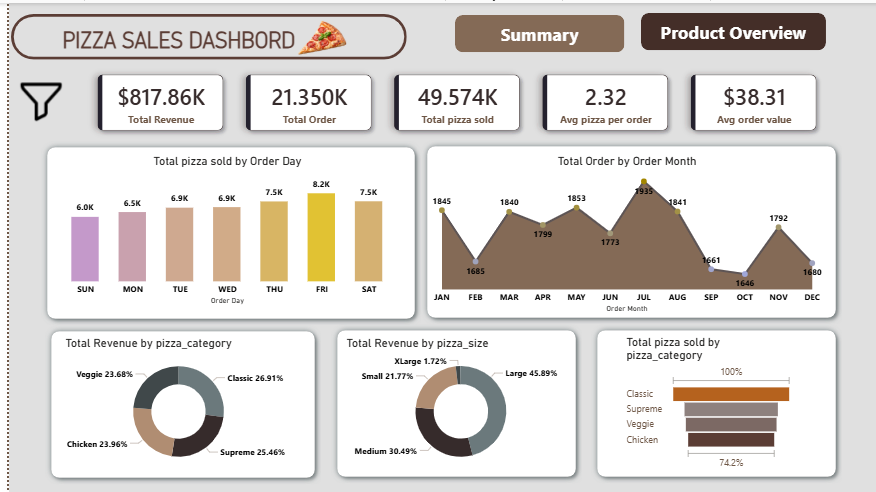

The page's visual inventory and layout, read from the dashboard file:
{"tool":"powerbi","page":{"name":"Summary","canvas":[1280,720],"ordinal":0},"visuals":[{"type":"image","box":[418.7,10.3,82,82],"z":0,"group":"g1"},{"type":"shape","box":[99.3,140.1,361.7,440.8],"z":0,"group":"g2"},{"type":"textbox","box":[73.2,29.3,386.3,52.7],"z":1000,"group":"g1"},{"type":"cardVisual","fields":{"Data":["pizza_sales.Total Revenue","pizza_sales.Total Order","pizza_sales.Total pizza sold","pizza_sales.Avg pizza per order","pizza_sales.Avg order value"]},"box":[97,71.7,1121.2,148.8],"z":1000},{"type":"slicer","fields":{"Values":["pizza_sales.pizza_category"]},"box":[157.6,329.7,247,96.6],"z":1000,"group":"g2"},{"type":"shape","box":[3.4,15.4,579.3,66.6],"z":2000,"group":"g1"},{"type":"slicer","fields":{"Values":["pizza_sales.pizza_size"]},"box":[156.2,436.5,235.7,101],"z":2000,"group":"g2"},{"type":"shape","box":[851.2,470.3,367.3,232.7],"z":2000},{"type":"shape","box":[46.3,202.5,556.1,269.3],"z":3000},{"type":"slicer","fields":{"Values":["pizza_sales.Order Month"]},"box":[155.1,241,249.3,93.6],"z":3000,"group":"g2"},{"type":"shape","box":[73.7,124.4,34.2,61.9],"z":4000,"group":"g2"},{"type":"shape","box":[470.7,470.3,367.3,232.7],"z":4000},{"type":"textbox","box":[138.5,173.6,192.8,49.2],"z":5000,"group":"g2"},{"type":"shape","box":[602.4,201,616.1,269.3],"z":5000},{"type":"actionButton","box":[355.7,147.9,116.1,86.4],"z":6000,"group":"g2"},{"type":"shape","box":[52.2,471.7,403.9,232.7],"z":6000},{"type":"shape","box":[142.4,220.5,439,266.3],"z":7000},{"type":"shape","box":[598,218.8,602.2,267.1],"z":8000},{"type":"clusteredColumnChart","fields":{"Y":["pizza_sales.Total pizza sold"],"Category":["pizza_sales.Order Day"]},"box":[59,220.5,522.4,225.4],"z":9000},{"type":"areaChart","fields":{"Category":["pizza_sales.Order Month"],"Y":["pizza_sales.Total Order"]},"box":[608.8,220.3,591.4,236.2],"z":10000},{"type":"shape","box":[487.8,486.9,332.2,200.5],"z":11000},{"type":"shape","box":[901.7,486.4,353.6,233.1],"z":12000},{"type":"donutChart","fields":{"Category":["pizza_sales.pizza_category"],"Y":["pizza_sales.Total Revenue"]},"box":[78,486.9,341,202],"z":13000},{"type":"donutChart","fields":{"Y":["pizza_sales.Total Revenue"],"Category":["pizza_sales.pizza_size"]},"box":[488.3,486.6,345.2,201.7],"z":14000},{"type":"funnel","fields":{"Y":["pizza_sales.Total pizza sold"],"Category":["pizza_sales.pizza_category"]},"box":[899,485.4,253.2,202],"z":15000},{"type":"actionButton","title":"Filter Button","box":[5.3,102.3,82.4,85],"z":17000},{"type":"actionButton","box":[652.2,16.9,248.1,54.5],"z":18000},{"type":"actionButton","box":[924.8,15,270.7,54.5],"z":19000},{"type":"group","id":"g1","title":"Group 2","box":[3.4,10.3,579.3,82],"z":20000},{"type":"group","id":"g2","title":"Group 1","box":[73.7,124.4,397.7,456.7],"z":21000}]}

Visuals, with their boxes in screenshot pixels (x1, y1, x2, y2), scaled from the page's 1280x720 canvas onto the 876x492 screenshot:
image: locate(287, 7, 343, 63)
shape: locate(68, 96, 315, 397)
textbox: locate(50, 20, 314, 56)
cardVisual - pizza_sales.Total Revenue x pizza_sales.Total Order: locate(66, 49, 834, 151)
slicer - pizza_sales.pizza_category: locate(108, 225, 277, 291)
shape: locate(2, 11, 399, 56)
slicer - pizza_sales.pizza_size: locate(107, 298, 268, 367)
shape: locate(583, 321, 834, 480)
shape: locate(32, 138, 412, 322)
slicer - pizza_sales.Order Month: locate(106, 165, 277, 229)
shape: locate(50, 85, 74, 127)
shape: locate(322, 321, 574, 480)
textbox: locate(95, 119, 227, 152)
shape: locate(412, 137, 834, 321)
actionButton: locate(243, 101, 323, 160)
shape: locate(36, 322, 312, 481)
shape: locate(97, 151, 398, 333)
shape: locate(409, 150, 821, 332)
clusteredColumnChart - pizza_sales.Total pizza sold x pizza_sales.Order Day: locate(40, 151, 398, 305)
areaChart - pizza_sales.Order Month x pizza_sales.Total Order: locate(417, 151, 821, 312)
shape: locate(334, 333, 561, 470)
shape: locate(617, 332, 859, 491)
donutChart - pizza_sales.pizza_category x pizza_sales.Total Revenue: locate(53, 333, 287, 471)
donutChart - pizza_sales.Total Revenue x pizza_sales.pizza_size: locate(334, 333, 570, 470)
funnel - pizza_sales.Total pizza sold x pizza_sales.pizza_category: locate(615, 332, 789, 470)
"Filter Button" actionButton: locate(4, 70, 60, 128)
actionButton: locate(446, 12, 616, 49)
actionButton: locate(633, 10, 818, 47)
"Group 2" group: locate(2, 7, 399, 63)
"Group 1" group: locate(50, 85, 323, 397)
